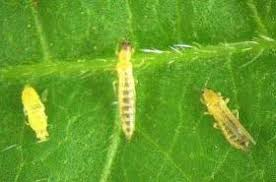Thrips: (196, 82, 272, 163), (110, 35, 147, 146)
